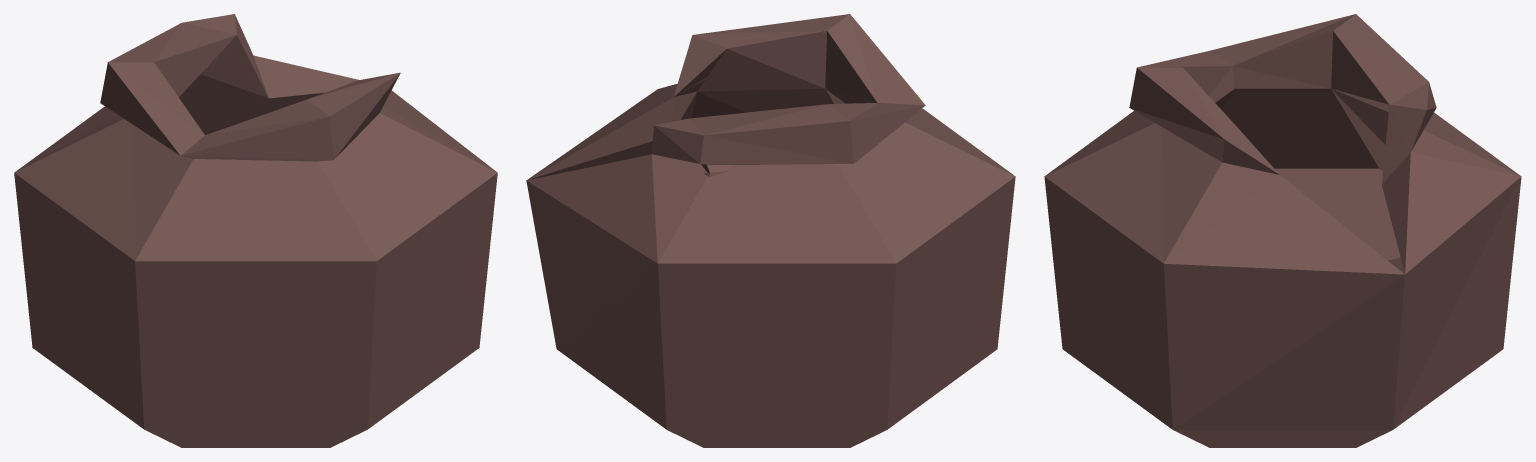
File: Flat_Vase_02.fbx
3 renders of one model, left to right at view 1: azimuth 30°, elevation 25°; view 2: azimuth 150°, elevation 25°; view 3: azimuth 270°, elevation 25°, orthographic.
Visible parts, largest first — view 1: Vase_02; view 2: Vase_02; view 3: Vase_02.
Boxes of the visible parts, bbox=[...] form: Vase_02: bbox=[14, 14, 497, 447]; Vase_02: bbox=[526, 14, 1015, 447]; Vase_02: bbox=[1044, 14, 1521, 447].
Bounding box in the file's own units: 131 × 111 × 147.
